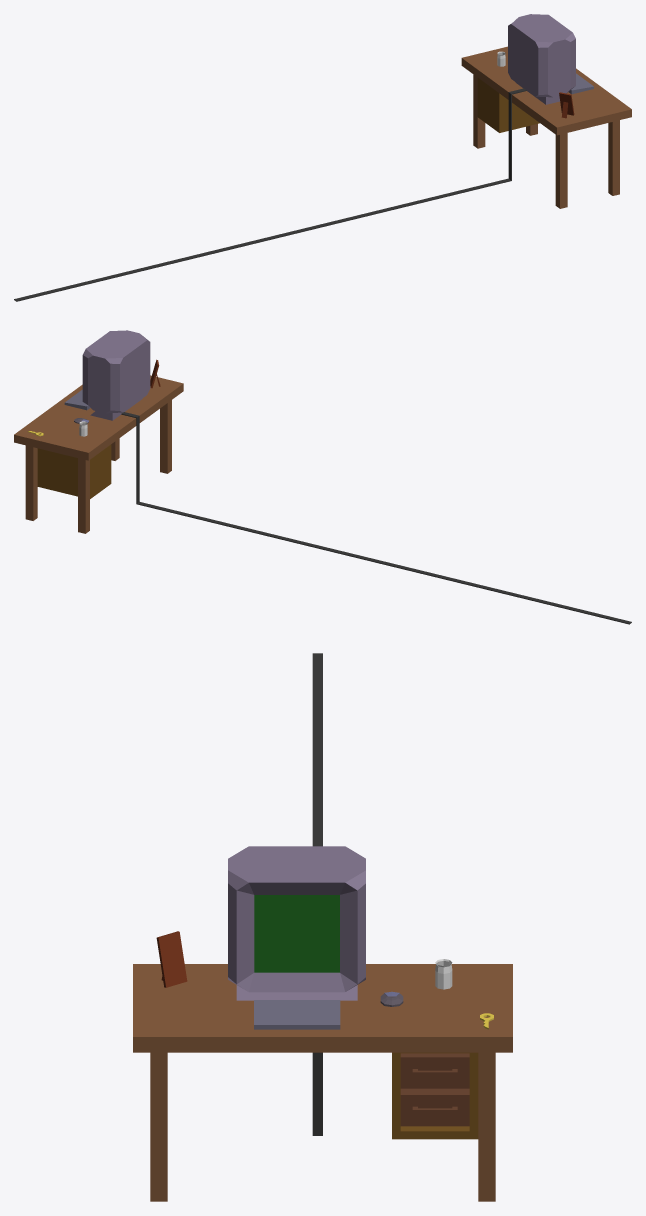
The model's file is DeskV3.fbx.
The picture shows the model from 3 angles, top to bottom: view 1: azimuth 30°, elevation 25°; view 2: azimuth 150°, elevation 25°; view 3: azimuth 270°, elevation 25°; orthographic projection. The views are drawn at different scales.
Parts seen in each view (by area): view 1: Desk, PC, Cables, Drawer Cabinet; view 2: Desk, PC, Drawer Cabinet, Cables; view 3: Desk, PC, PC Screen, Cables, Drawer Cabinet, Drawer Bottom, Keyboard, Drawer, Photo.
Part boxes in pixels (x1,y1,x2,y2): Desk: (461, 46, 631, 208); PC: (508, 14, 575, 104); Cables: (14, 88, 526, 301); Drawer Cabinet: (477, 78, 539, 132); Desk: (14, 375, 183, 533); PC: (82, 330, 150, 420); Drawer Cabinet: (37, 444, 111, 498); Cables: (121, 412, 631, 624); Desk: (133, 964, 512, 1201); PC: (228, 846, 365, 1000); PC Screen: (254, 895, 339, 972); Cables: (312, 653, 322, 1135); Drawer Cabinet: (392, 1052, 478, 1139); Drawer Bottom: (400, 1088, 469, 1126); Keyboard: (254, 1000, 340, 1029); Drawer: (400, 1053, 469, 1088); Photo: (156, 931, 187, 987).
Size of the model in its own units: 760 by 190 by 220.
